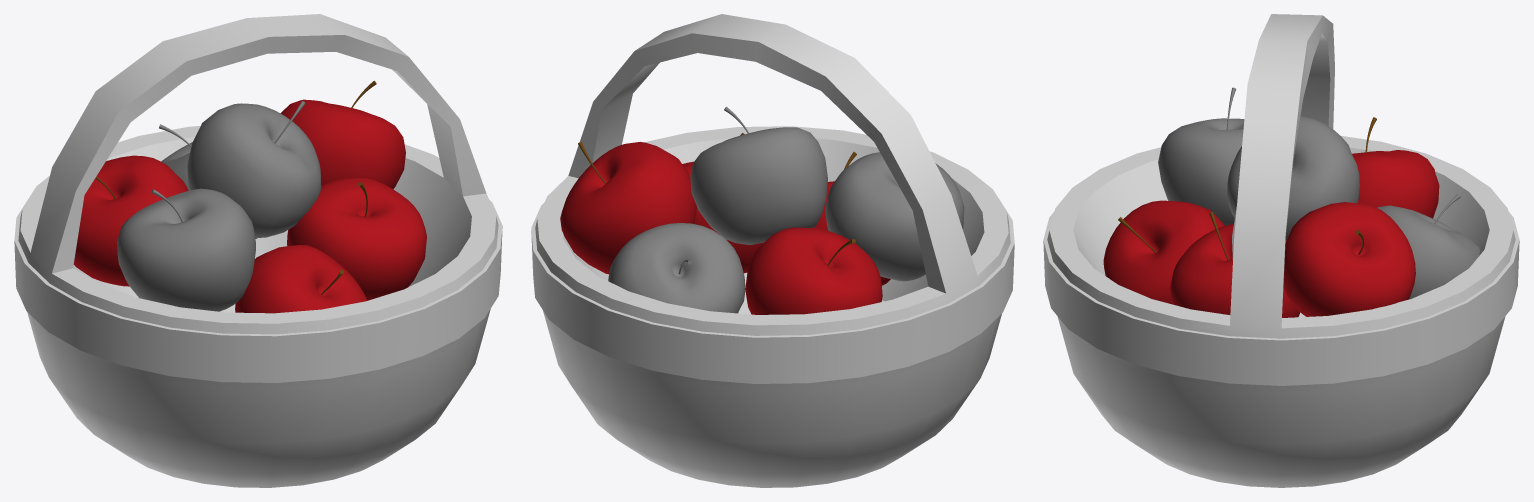
File: Basket.FBX
3 views of the same model, side by side, from view 1: azimuth 30°, elevation 25°; view 2: azimuth 150°, elevation 25°; view 3: azimuth 270°, elevation 25° (orthographic). The views are drawn at different scales.
Visible parts, largest first — view 1: Basket, Apple_003, Apple_005, Apple_006, Apple_001, Apple_002, Apple_007, Apple_004; view 2: Basket, Apple_005, Apple_002, Apple_001, Apple_004, Apple_003, Apple_006; view 3: Basket, Apple_002, Apple_007, Apple_003, Apple_005, Apple_006, Apple_001, Apple_004.
Boxes of the visible parts, x1,y1,x2,y2 form: Basket: (14, 14, 502, 487); Apple_003: (117, 188, 255, 311); Apple_005: (187, 101, 321, 237); Apple_006: (287, 177, 426, 300); Apple_001: (73, 155, 188, 286); Apple_002: (280, 80, 405, 189); Apple_007: (235, 245, 367, 313); Apple_004: (159, 124, 257, 238); Basket: (531, 14, 1014, 487); Apple_005: (690, 106, 827, 244); Apple_002: (560, 142, 696, 274); Apple_001: (745, 227, 882, 314); Apple_004: (608, 223, 745, 313); Apple_003: (825, 152, 964, 281); Apple_006: (682, 133, 763, 273); Basket: (1043, 14, 1519, 487); Apple_002: (1283, 202, 1415, 316); Apple_007: (1103, 200, 1224, 304); Apple_003: (1158, 87, 1244, 225); Apple_005: (1227, 116, 1359, 240); Apple_006: (1170, 212, 1300, 317); Apple_001: (1352, 117, 1439, 218); Apple_004: (1377, 194, 1479, 299).
Bounding box in the file's own units: 3.17 × 3.05 × 3.17.
Materials: 2 (1 with a texture image).
